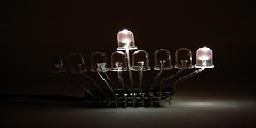LED: (114, 26, 138, 52), (65, 51, 87, 79), (192, 47, 215, 71), (130, 49, 151, 74)
